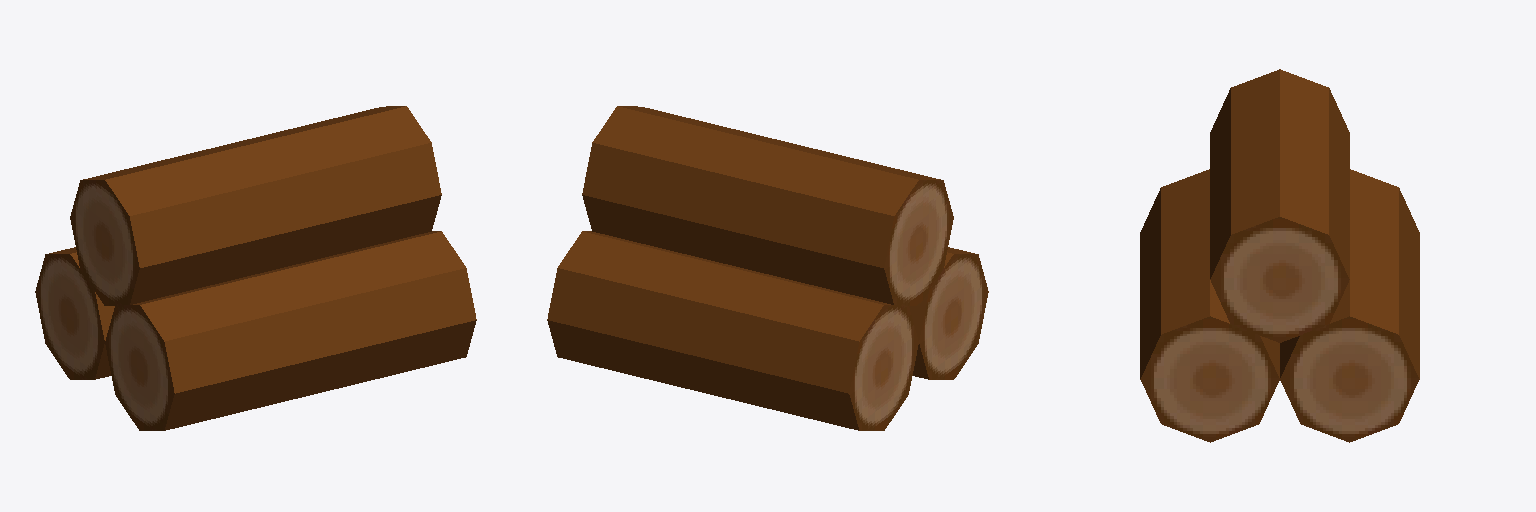
The picture shows the model from 3 angles: view 1: azimuth 30°, elevation 25°; view 2: azimuth 150°, elevation 25°; view 3: azimuth 270°, elevation 25°; orthographic projection.
Visible parts, largest first — view 1: Цилиндр; view 2: Цилиндр; view 3: Цилиндр.
Part boxes in pixels (left/top/right/bottom): Цилиндр: left=35, top=106, right=476, bottom=430; Цилиндр: left=547, top=106, right=988, bottom=430; Цилиндр: left=1140, top=69, right=1419, bottom=442.
Bounding box in the file's own units: 2 × 1.43 × 1.6.
1 materials, 1 textured.